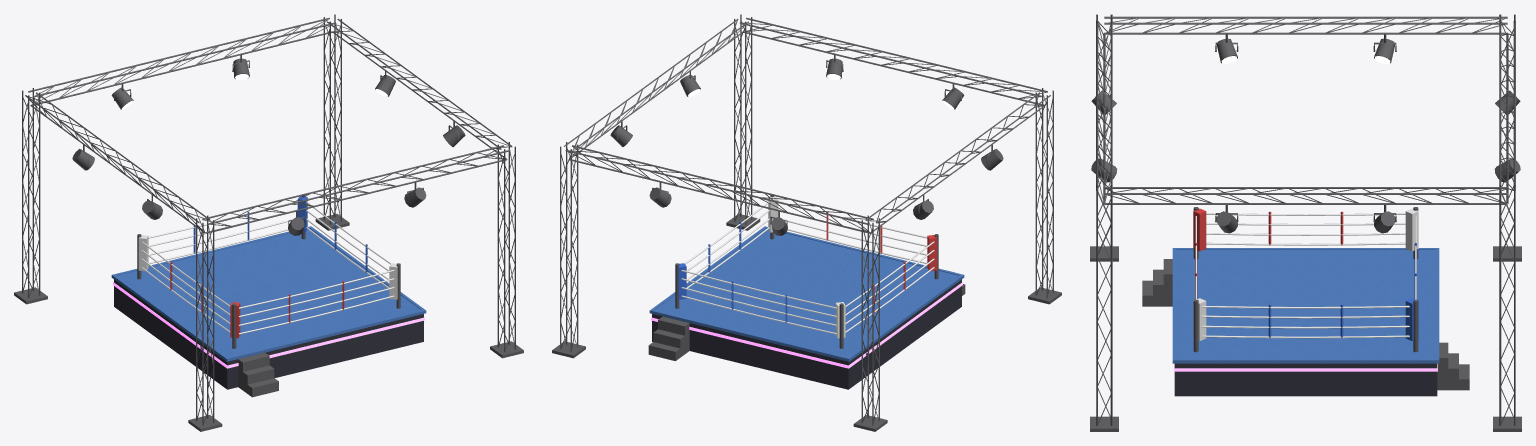
The model's file is prop_boxing_ring.glb.
The picture shows the model from 3 angles, left to right: view 1: azimuth 30°, elevation 25°; view 2: azimuth 150°, elevation 25°; view 3: azimuth 270°, elevation 25°; orthographic projection. The views are drawn at different scales.
Visible parts, largest first — view 1: BoxingRing, BoxingRing_Tex; view 2: BoxingRing, BoxingRing_Tex; view 3: BoxingRing, BoxingRing_Tex.
Part boxes in pixels (x1,y1,x2,y2): BoxingRing: (14,14,523,431); BoxingRing_Tex: (111,226,426,361); BoxingRing: (552,14,1061,431); BoxingRing_Tex: (649,226,964,361); BoxingRing: (1090,14,1521,431); BoxingRing_Tex: (1172,248,1439,363).
Bounding box in the file's own units: 12 × 7.3 × 12.
Materials: 9 (1 with a texture image).
